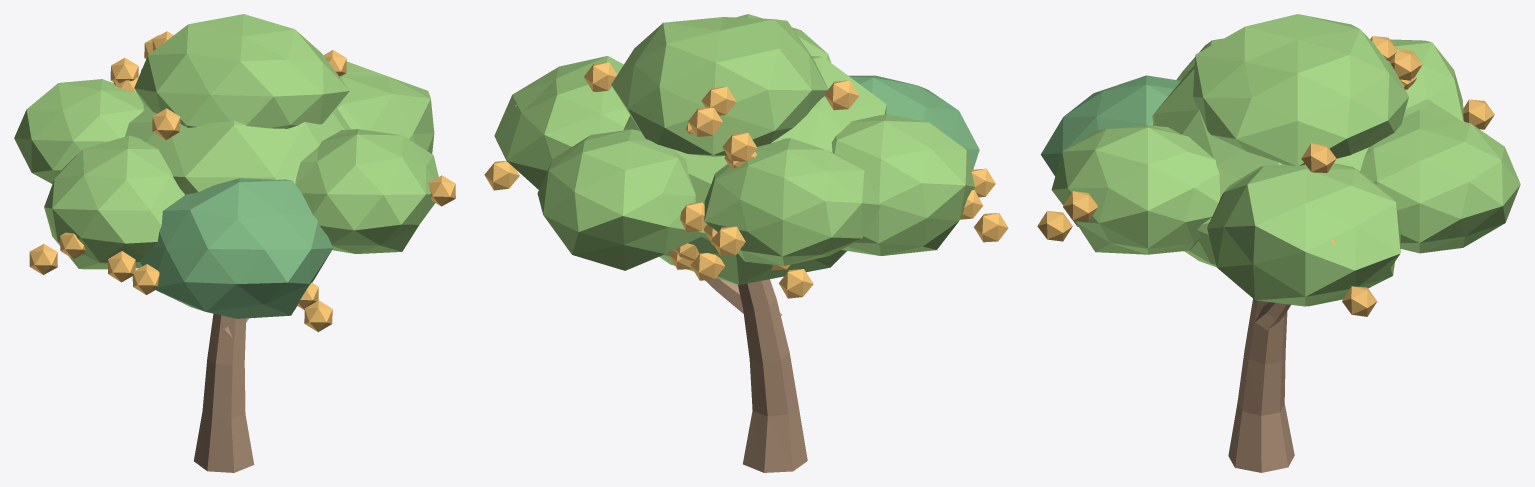
Rendered from laranjeira_2.fbx.
3 views of the same model, side by side, from view 1: azimuth 30°, elevation 25°; view 2: azimuth 150°, elevation 25°; view 3: azimuth 270°, elevation 25° (orthographic). The views are drawn at different scales.
Parts seen in each view (by area): view 1: laranjeira_2~Copa 5@leafdark, laranjeira_2~Copa 7@leaf, laranjeira_2~Copa 6@leaf, laranjeira_2~Copa 4@leaf, laranjeira_2~Copa 0@leaf, laranjeira_2~Copa 3@leaf, laranjeira_2~Tronco@bark, laranjeira_2~Copa 1@leaf, laranjeira_2~Fruta 11@orange, laranjeira_2~Fruta 18@orange, laranjeira_2~Fruta 9@orange, laranjeira_2~Fruta 14@orange (+4 smaller); view 2: laranjeira_2~Copa 7@leaf, laranjeira_2~Copa 2@leaf, laranjeira_2~Copa 3@leaf, laranjeira_2~Copa 4@leaf, laranjeira_2~Copa 1@leaf, laranjeira_2~Tronco@bark, laranjeira_2~Copa 0@leaf, laranjeira_2~Copa 5@leafdark, laranjeira_2~Fruta 9@orange, laranjeira_2~Fruta 1@orange, laranjeira_2~Fruta 13@orange, laranjeira_2~Fruta 19@orange (+8 smaller); view 3: laranjeira_2~Copa 7@leaf, laranjeira_2~Copa 1@leaf, laranjeira_2~Copa 6@leaf, laranjeira_2~Copa 2@leaf, laranjeira_2~Tronco@bark, laranjeira_2~Copa 5@leafdark, laranjeira_2~Copa 0@leaf, laranjeira_2~Copa 3@leaf, laranjeira_2~Fruta 5@orange, laranjeira_2~Fruta 6@orange, laranjeira_2~Fruta 11@orange, laranjeira_2~Fruta 23@orange (+3 smaller).
Part boxes in pixels (x1,y1,x2,y2): laranjeira_2~Copa 5@leafdark: [139, 178, 332, 318]; laranjeira_2~Copa 7@leaf: [134, 14, 349, 128]; laranjeira_2~Copa 6@leaf: [295, 129, 438, 253]; laranjeira_2~Copa 4@leaf: [44, 135, 184, 269]; laranjeira_2~Copa 0@leaf: [125, 104, 350, 194]; laranjeira_2~Copa 3@leaf: [14, 79, 143, 183]; laranjeira_2~Tronco@bark: [194, 313, 254, 472]; laranjeira_2~Copa 1@leaf: [336, 61, 434, 153]; laranjeira_2~Fruta 11@orange: [304, 300, 332, 332]; laranjeira_2~Fruta 18@orange: [29, 244, 57, 274]; laranjeira_2~Fruta 9@orange: [152, 108, 180, 139]; laranjeira_2~Fruta 14@orange: [108, 251, 135, 282]; laranjeira_2~Copa 7@leaf: [611, 17, 828, 156]; laranjeira_2~Copa 2@leaf: [537, 129, 705, 270]; laranjeira_2~Copa 3@leaf: [704, 138, 880, 265]; laranjeira_2~Copa 4@leaf: [831, 114, 974, 255]; laranjeira_2~Copa 1@leaf: [494, 56, 630, 189]; laranjeira_2~Tronco@bark: [738, 279, 807, 472]; laranjeira_2~Copa 0@leaf: [623, 56, 886, 284]; laranjeira_2~Copa 5@leafdark: [848, 75, 979, 169]; laranjeira_2~Fruta 9@orange: [824, 80, 859, 110]; laranjeira_2~Fruta 1@orange: [688, 107, 723, 136]; laranjeira_2~Fruta 13@orange: [711, 226, 745, 255]; laranjeira_2~Fruta 19@orange: [722, 132, 757, 161]; laranjeira_2~Copa 7@leaf: [1193, 14, 1408, 166]; laranjeira_2~Copa 1@leaf: [1207, 163, 1400, 306]; laranjeira_2~Copa 6@leaf: [1051, 125, 1219, 254]; laranjeira_2~Copa 2@leaf: [1360, 109, 1520, 253]; laranjeira_2~Tronco@bark: [1228, 299, 1294, 472]; laranjeira_2~Copa 5@leafdark: [1040, 75, 1180, 176]; laranjeira_2~Copa 0@leaf: [1152, 66, 1409, 267]; laranjeira_2~Copa 3@leaf: [1390, 39, 1463, 121]; laranjeira_2~Fruta 5@orange: [1063, 191, 1097, 221]; laranjeira_2~Fruta 6@orange: [1342, 286, 1377, 316]; laranjeira_2~Fruta 11@orange: [1037, 211, 1072, 241]; laranjeira_2~Fruta 23@orange: [1301, 143, 1336, 172].
Size of the model in its own units: 4.53 by 4.07 by 4.08.
